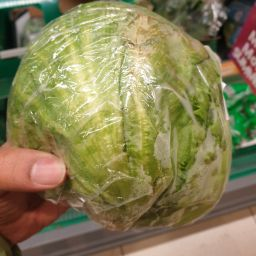Spinach: (13, 2, 250, 232)
